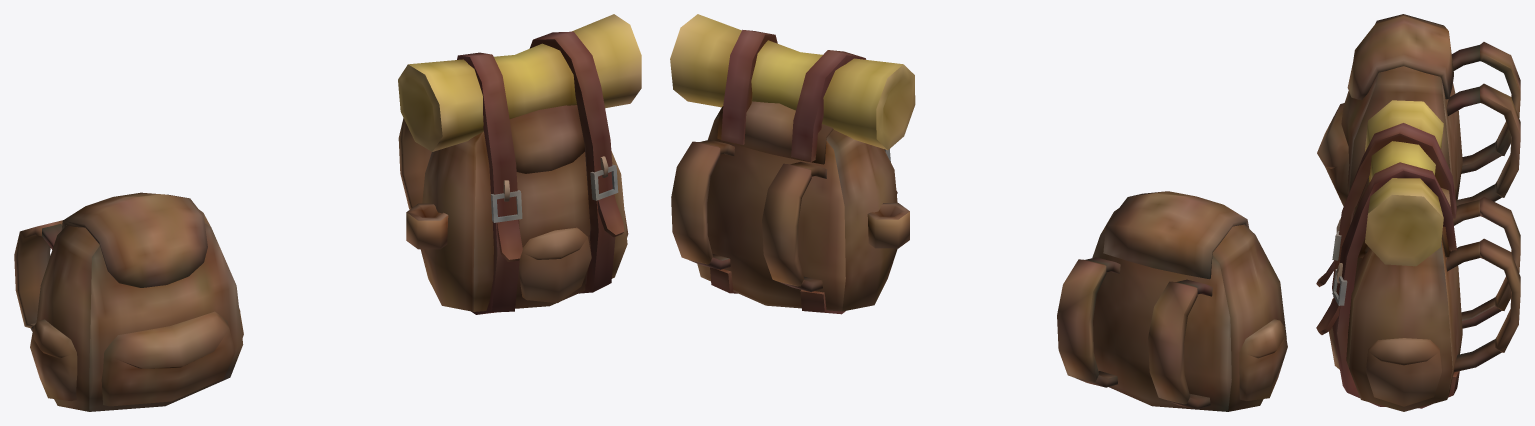
Rendered from bag.glb.
3 renders of one model, left to right at view 1: azimuth 30°, elevation 25°; view 2: azimuth 150°, elevation 25°; view 3: azimuth 270°, elevation 25°, orthographic. The views are drawn at different scales.
Visible parts, largest first — view 1: 2, 1; view 2: 2, 1; view 3: 2, 1.
Part boxes in pixels (bbox=[...]): 2: bbox=[398, 14, 641, 314]; 1: bbox=[14, 192, 243, 411]; 2: bbox=[670, 14, 915, 314]; 1: bbox=[1057, 191, 1287, 411]; 2: bbox=[1316, 100, 1520, 411]; 1: bbox=[1317, 14, 1520, 206].
Bounding box in the file's own units: 3.03 × 1.28 × 0.9714.
Materials: 1 (1 with a texture image).
